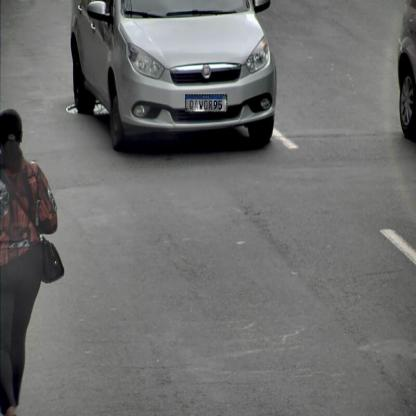PlacaM: (185, 94, 227, 112)
